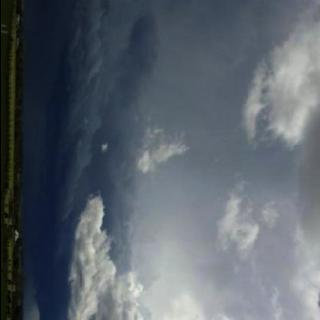Cumulonimbus: (25, 0, 320, 320)
